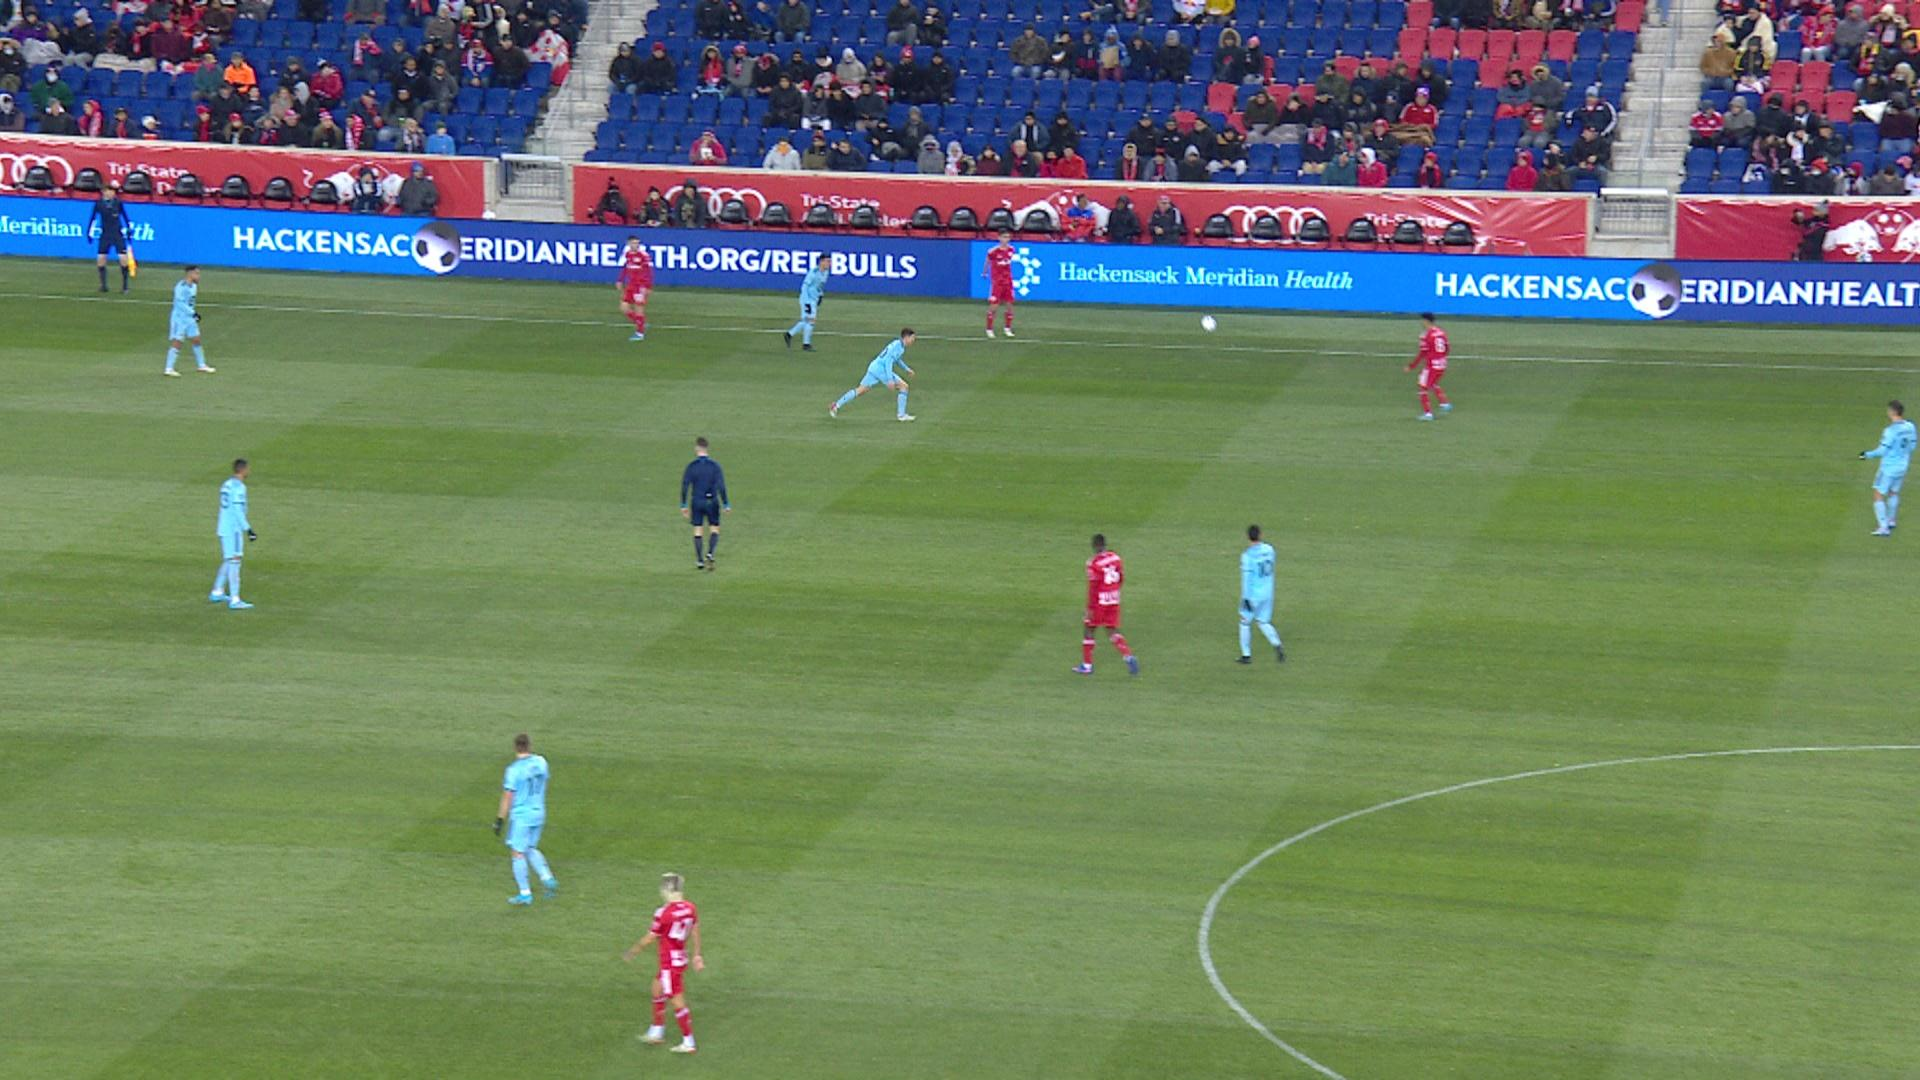football: (1200, 315, 1218, 334)
